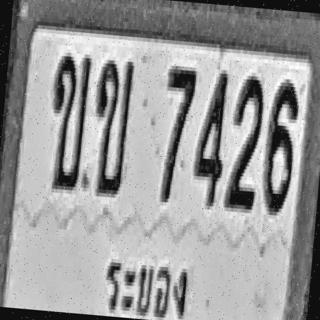A02: (44, 52, 92, 191), (88, 56, 135, 195)
N02: (224, 71, 266, 210)
N04: (191, 66, 230, 205)
N06: (260, 80, 300, 215)
N07: (156, 63, 197, 202)
P53: (95, 240, 194, 320)
